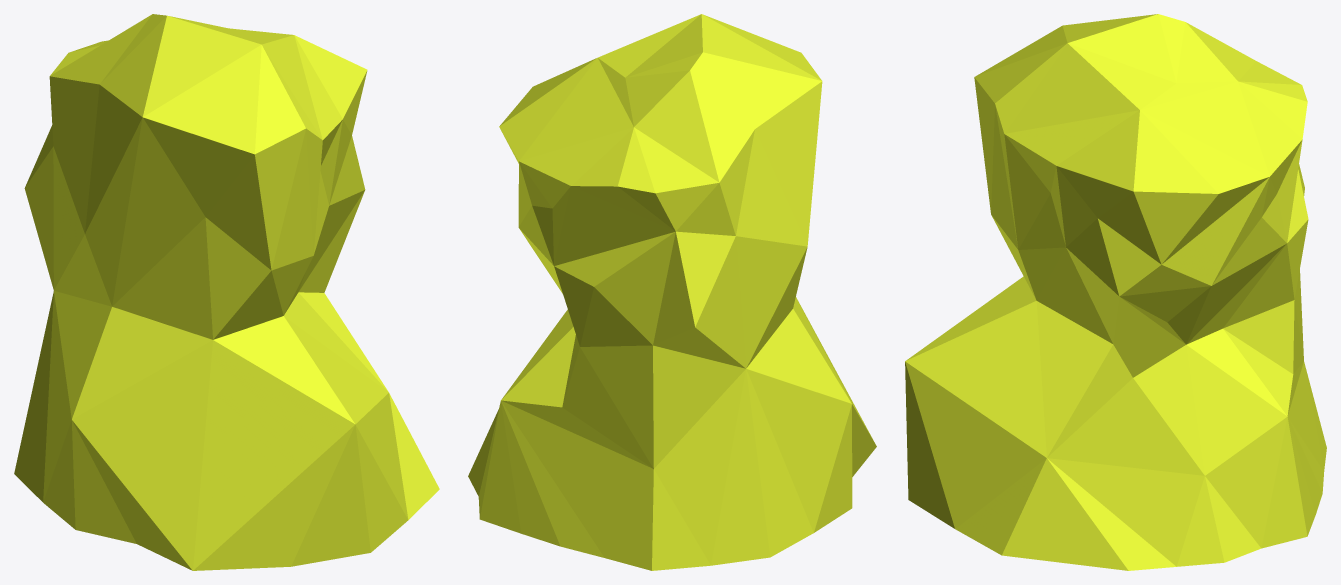
File: CoralRock_1.fbx
3 views of the same model, side by side, from view 1: azimuth 30°, elevation 25°; view 2: azimuth 150°, elevation 25°; view 3: azimuth 270°, elevation 25° (orthographic). The views are drawn at different scales.
Visible parts, largest first — view 1: CoralRock_1; view 2: CoralRock_1; view 3: CoralRock_1.
Boxes of the visible parts, x1,y1,x2,y2 form: CoralRock_1: (14, 14, 439, 570); CoralRock_1: (468, 14, 876, 570); CoralRock_1: (905, 14, 1326, 570).
Size of the model in its own units: 2619 by 3310 by 2813.
